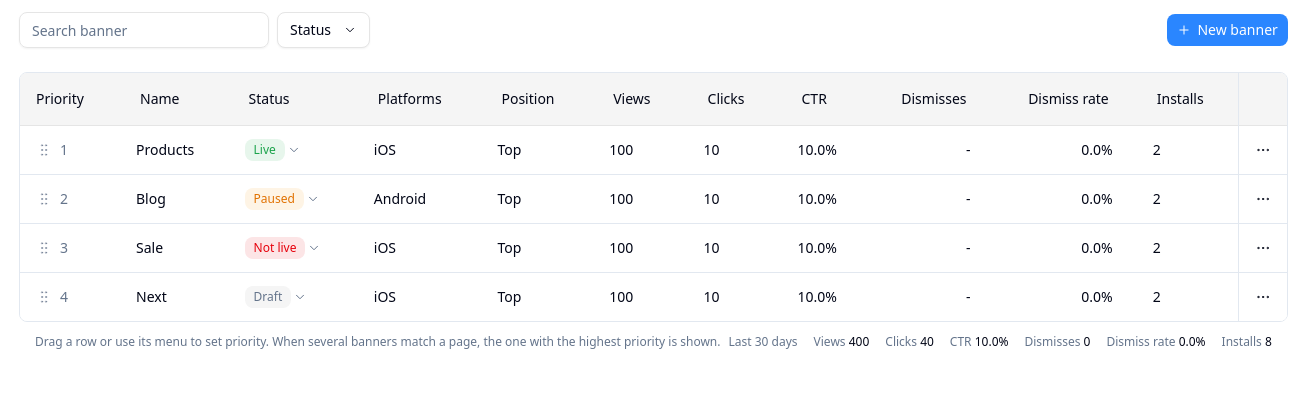
it: SmartBannersPage search and filters › filters rows by name or title as you type
expect the button named "Reorder Products" is enabled: met, box [36,142,52,158]
Type "shop" into the field with placeholder "Search banner" at (144, 30), box [19,12,269,48]
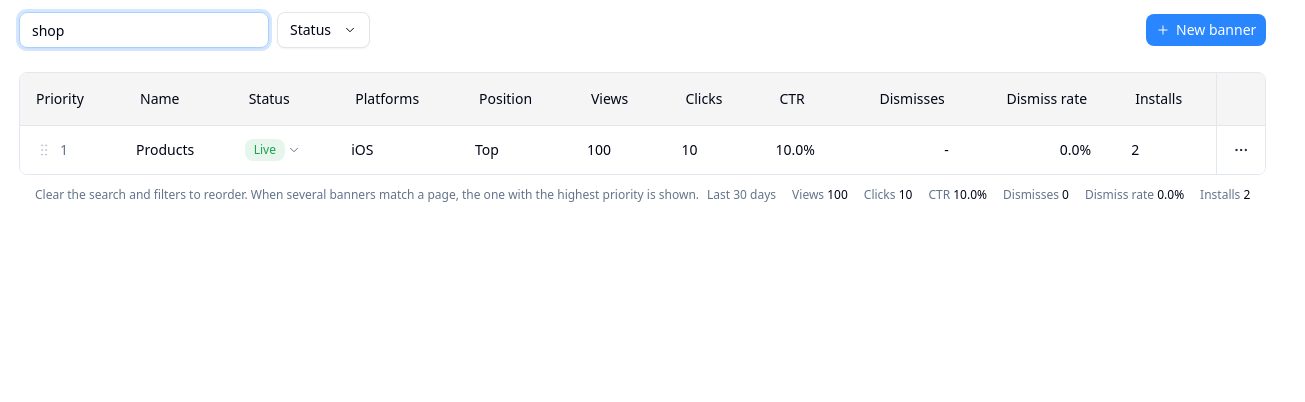
expect the button named "Reorder Products" is disabled: met, box [36,142,52,158]
expect the text "Clear the search and filters to reorder." is shown: met, box [35,186,699,203]
Click the button named "Actions for Products" at (1241, 150), box [1225,134,1257,166]
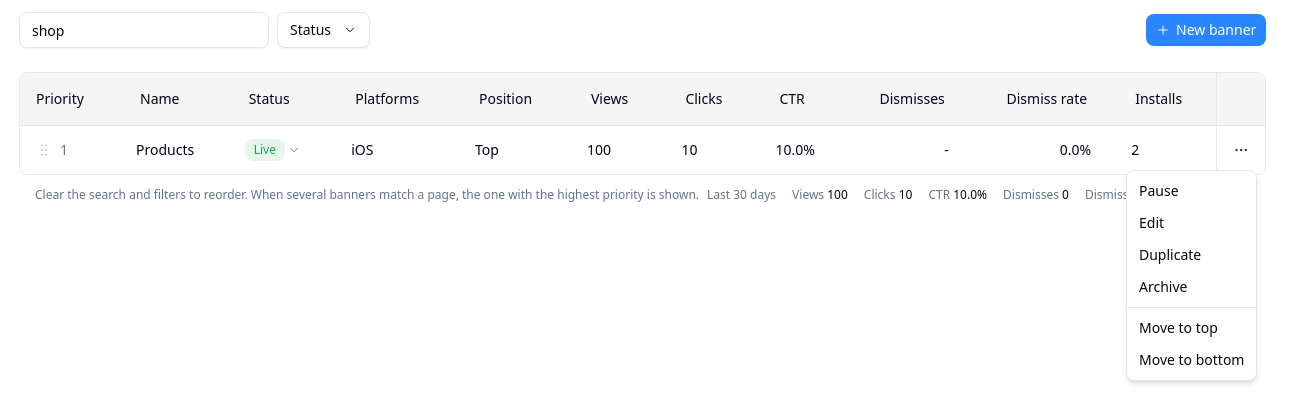
Press Escape
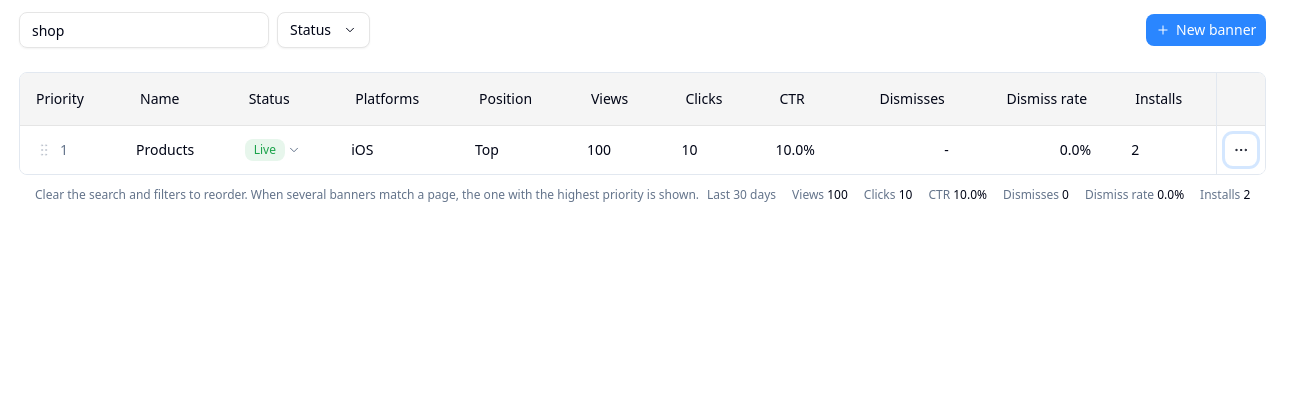
Clear the field with placeholder "Search banner" at (144, 30), box [19,12,269,48]
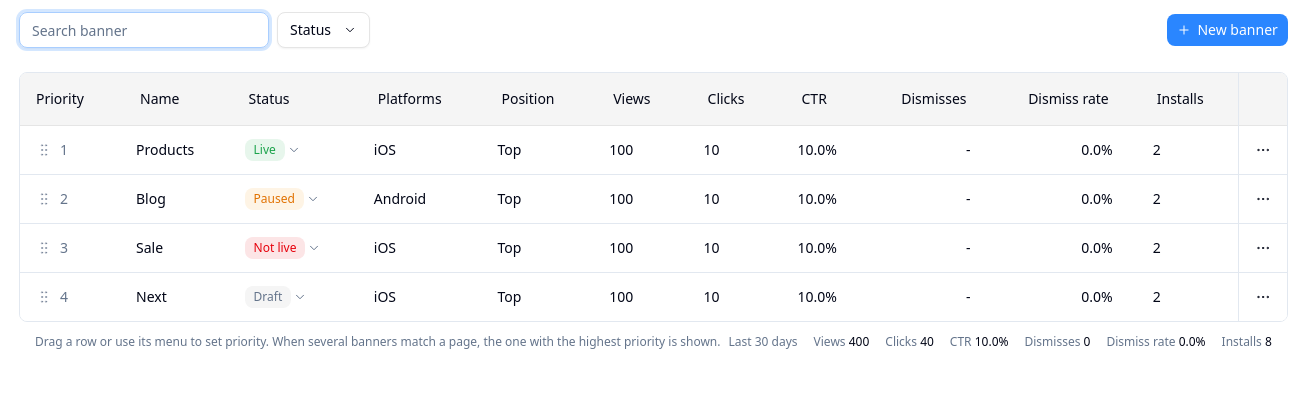
expect the button named "Reorder Products" is enabled: met, box [36,142,52,158]
